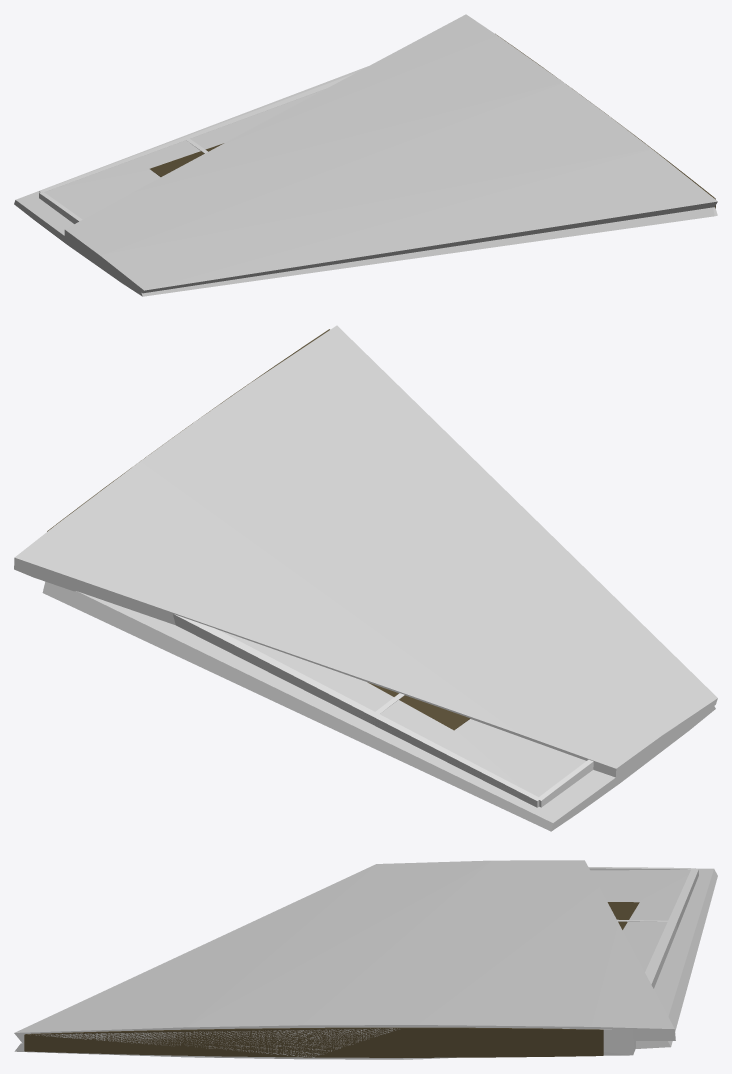
File: wing_spar_outer_R.fbx
The picture shows the model from 3 angles, top to bottom: view 1: azimuth 30°, elevation 25°; view 2: azimuth 150°, elevation 25°; view 3: azimuth 270°, elevation 25°; orthographic projection. The views are drawn at different scales.
Parts seen in each view (by area): view 1: wing_spar_outer_R_colmesh1, wing_spar_outer_R_colmesh0, wing_spar_outer_R_colmesh2, wing_spar_outer_R; view 2: wing_spar_outer_R_colmesh1, wing_spar_outer_R_colmesh0, wing_spar_outer_R_colmesh2, wing_spar_outer_R; view 3: wing_spar_outer_R_colmesh1, wing_spar_outer_R, wing_spar_outer_R_colmesh2, wing_spar_outer_R_colmesh0.
Boxes of the visible parts, left/top/right/bottom form: wing_spar_outer_R_colmesh1: left=64, top=14, right=717, bottom=293; wing_spar_outer_R_colmesh0: left=14, top=66, right=717, bottom=296; wing_spar_outer_R_colmesh2: left=39, top=89, right=715, bottom=219; wing_spar_outer_R: left=39, top=33, right=715, bottom=223; wing_spar_outer_R_colmesh1: left=14, top=325, right=717, bottom=777; wing_spar_outer_R_colmesh0: left=42, top=581, right=715, bottom=831; wing_spar_outer_R_colmesh2: left=219, top=630, right=586, bottom=807; wing_spar_outer_R: left=47, top=329, right=593, bottom=807; wing_spar_outer_R_colmesh1: left=14, top=860, right=675, bottom=1043; wing_spar_outer_R: left=24, top=867, right=698, bottom=1057; wing_spar_outer_R_colmesh2: left=28, top=869, right=698, bottom=1057; wing_spar_outer_R_colmesh0: left=14, top=868, right=717, bottom=1059.
Size of the model in its own units: 1.45 by 0.3188 by 1.54.
